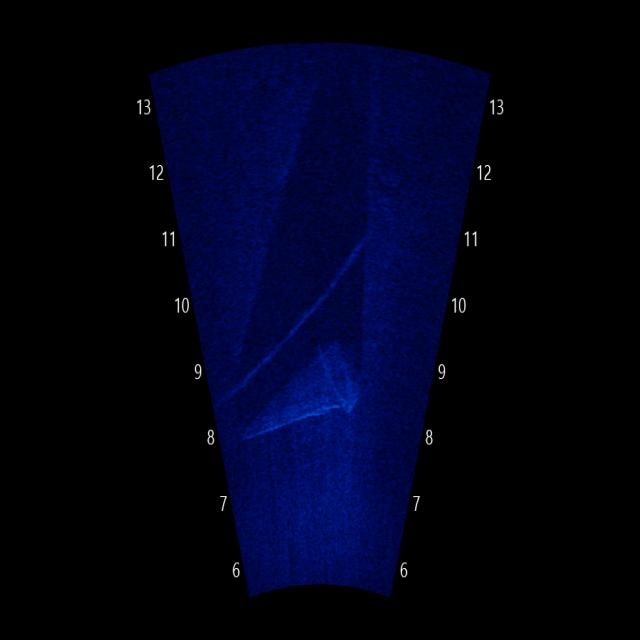triangle: (234, 329, 374, 456)
